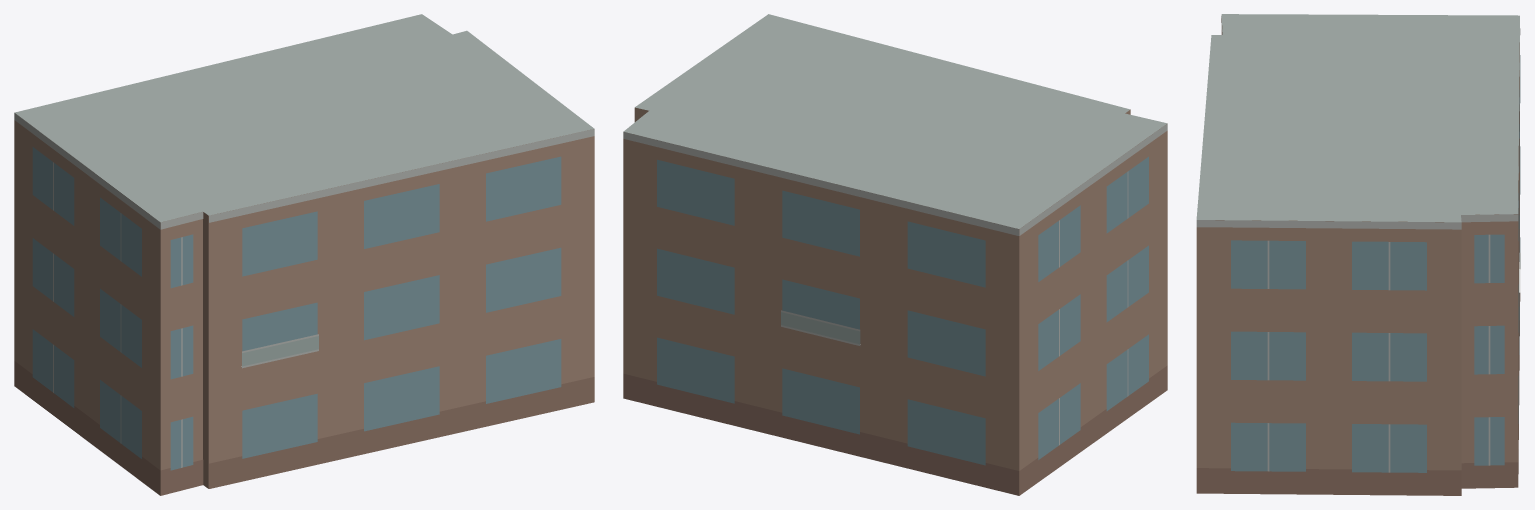
File: survey-upis-32671935.glb
3 renders of one model, left to right at view 1: azimuth 30°, elevation 25°; view 2: azimuth 150°, elevation 25°; view 3: azimuth 270°, elevation 25°, orthographic. The views are drawn at different scales.
Parts seen in each view (by area): view 1: survey-upis-32671935.tmp; view 2: survey-upis-32671935.tmp; view 3: survey-upis-32671935.tmp.
Part boxes in pixels (x1,y1,x2,y2): survey-upis-32671935.tmp: [14, 14, 594, 495]; survey-upis-32671935.tmp: [623, 14, 1167, 495]; survey-upis-32671935.tmp: [1196, 14, 1520, 495].
Bounding box in the file's own units: 14.95 × 9.15 × 9.83.
